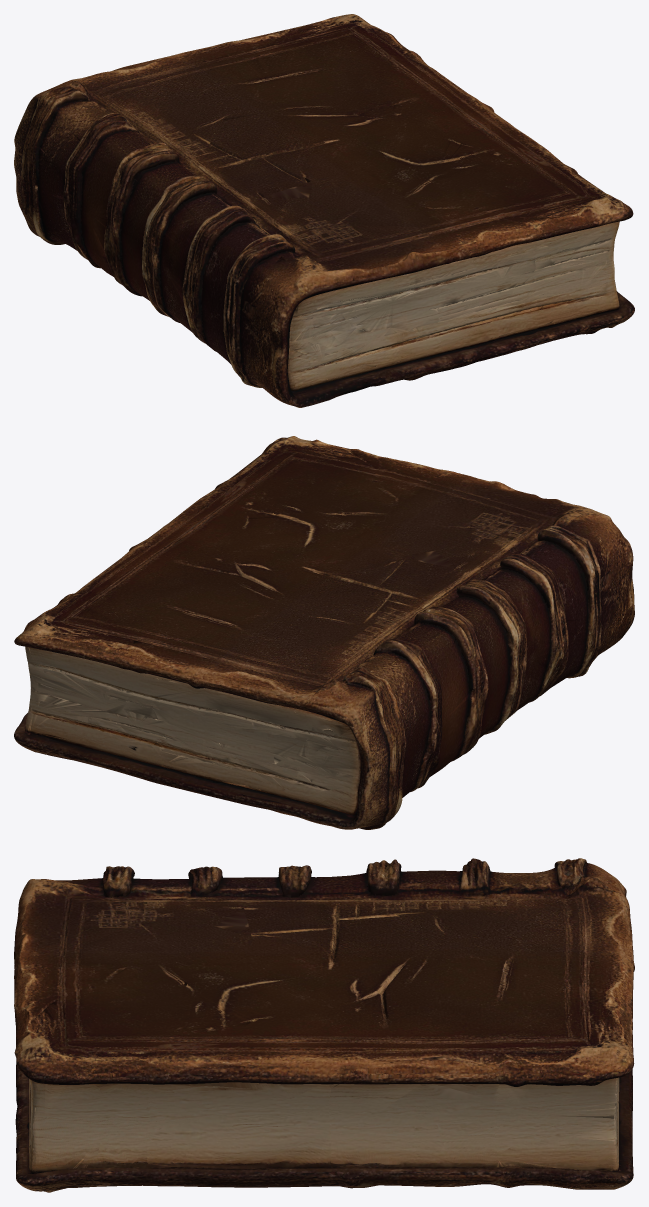
File: Book1 opt.fbx
3 views of the same model, one above another, from view 1: azimuth 30°, elevation 25°; view 2: azimuth 150°, elevation 25°; view 3: azimuth 270°, elevation 25° (orthographic). The views are drawn at different scales.
Visible parts, largest first — view 1: tripo_node_991dfd7a.001; view 2: tripo_node_991dfd7a.001; view 3: tripo_node_991dfd7a.001.
Part boxes in pixels (x1,y1,x2,y2): tripo_node_991dfd7a.001: (14,14,634,407); tripo_node_991dfd7a.001: (14,436,634,829); tripo_node_991dfd7a.001: (14,858,634,1192).
Size of the model in its own units: 76.01 by 30.22 by 97.93.
1 material, 1 textured.
